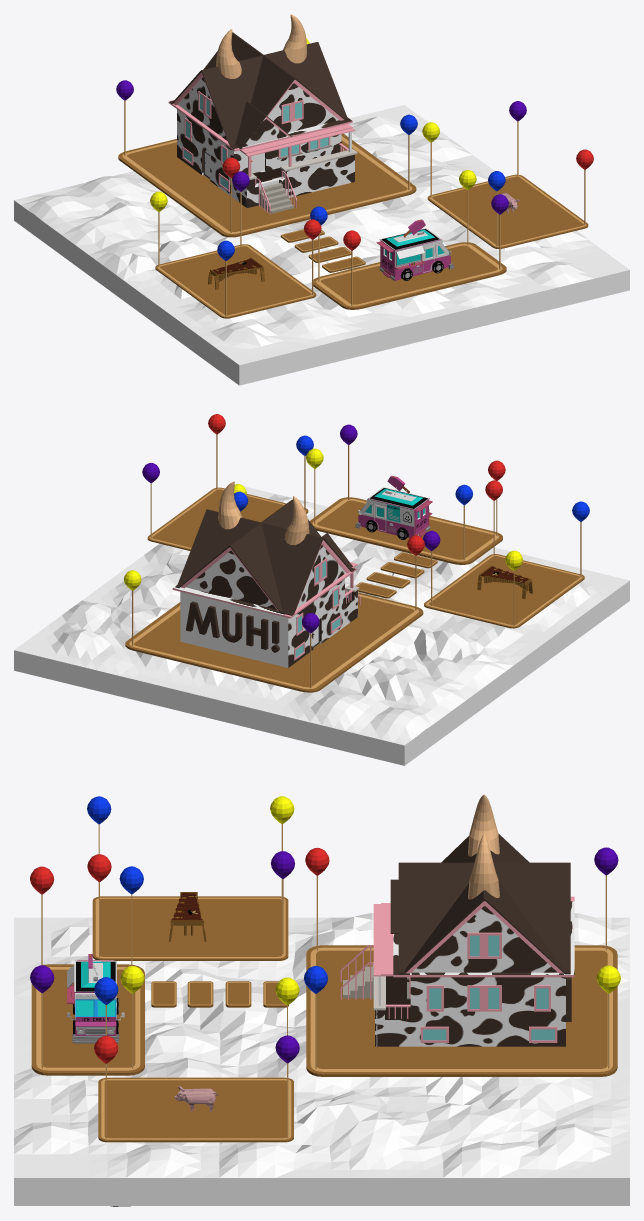
The picture shows the model from 3 angles, top to bottom: view 1: azimuth 30°, elevation 25°; view 2: azimuth 150°, elevation 25°; view 3: azimuth 270°, elevation 25°; orthographic projection. The views are drawn at different scales.
Visible parts, largest first — view 1: Cube.013, Cube.1242, VEHICLES_ICE_CREAM_TRUCK, OBJRANDOM_MARIMBA; view 2: Cube.013, Cube.1242, VEHICLES_ICE_CREAM_TRUCK, OBJRANDOM_MARIMBA; view 3: Cube.013, Cube.1242, VEHICLES_ICE_CREAM_TRUCK, OBJRANDOM_MARIMBA, ANIMAL_CERDO.
Part boxes in pixels (left/top/right/bottom): Cube.013: left=14, top=38, right=629, bottom=385; Cube.1242: left=168, top=14, right=357, bottom=214; VEHICLES_ICE_CREAM_TRUCK: left=376, top=219, right=454, bottom=280; OBJRANDOM_MARIMBA: left=208, top=257, right=264, bottom=289; Cube.013: left=14, top=414, right=629, bottom=765; Cube.1242: left=172, top=481, right=360, bottom=667; VEHICLES_ICE_CREAM_TRUCK: left=355, top=475, right=432, bottom=539; OBJRANDOM_MARIMBA: left=477, top=565, right=532, bottom=598; Cube.013: left=14, top=796, right=629, bottom=1205; Cube.1242: left=340, top=794, right=574, bottom=1046; VEHICLES_ICE_CREAM_TRUCK: left=67, top=954, right=124, bottom=1043; OBJRANDOM_MARIMBA: left=169, top=892, right=206, bottom=941; ANIMAL_CERDO: left=175, top=1086, right=218, bottom=1111.
Bounding box in the file's own units: 4000 × 1920 × 4000.
Materials: 46 (1 with a texture image).
